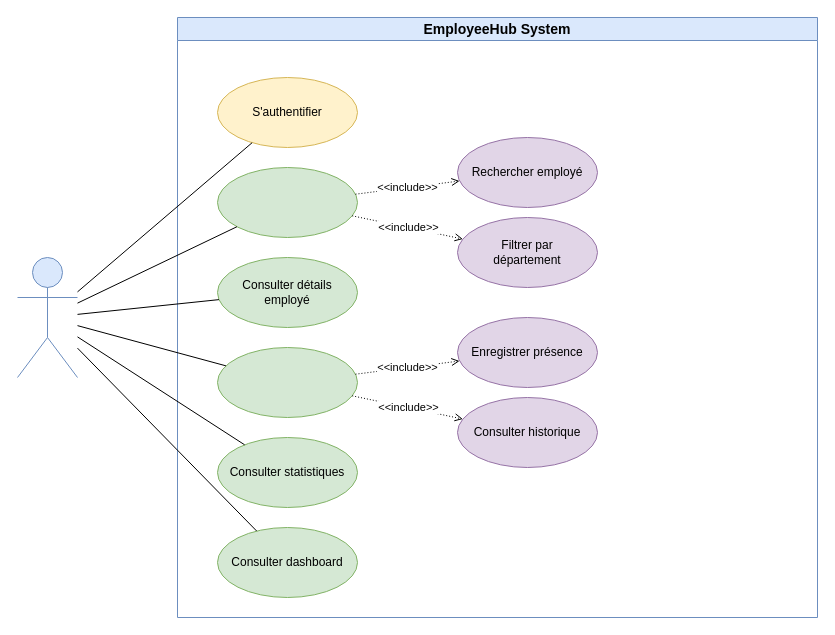
The diagram is 835 pixels wide and 635 high, and some of its shapes have lost their labels. Here are the shapes that lost their labels. From the top down, the centre of each, then its label:
At point 287,202: "Consulter liste employés".
At point 47,317: "RH".
At point 287,382: "Gérer présences".
